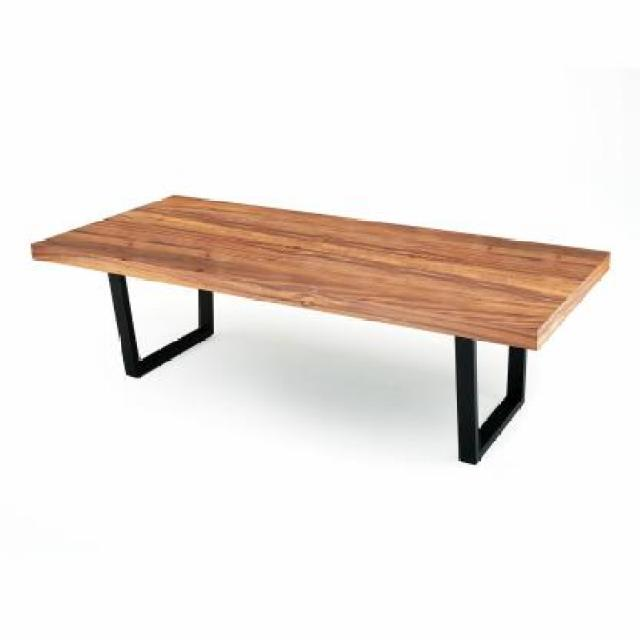table: (33, 195, 609, 471)
